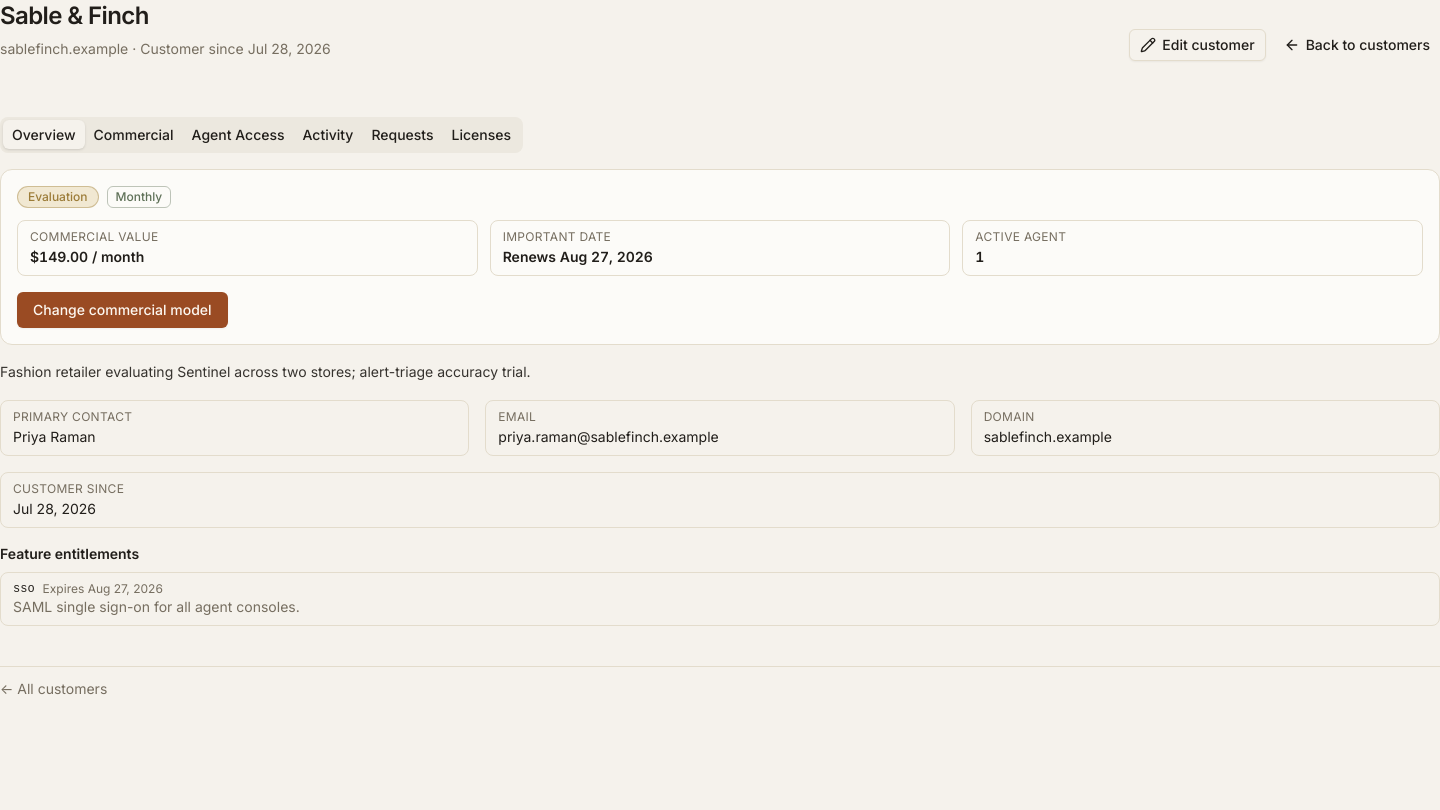
Test: CustomerProfilePage › uses singular grammar for one active grant in the termination confirmation
What coordinates should you click on to do the following:
click the tab with test id "tab-commercial"
I would click on:
 (134, 135)
Its box is [84,120,182,149].
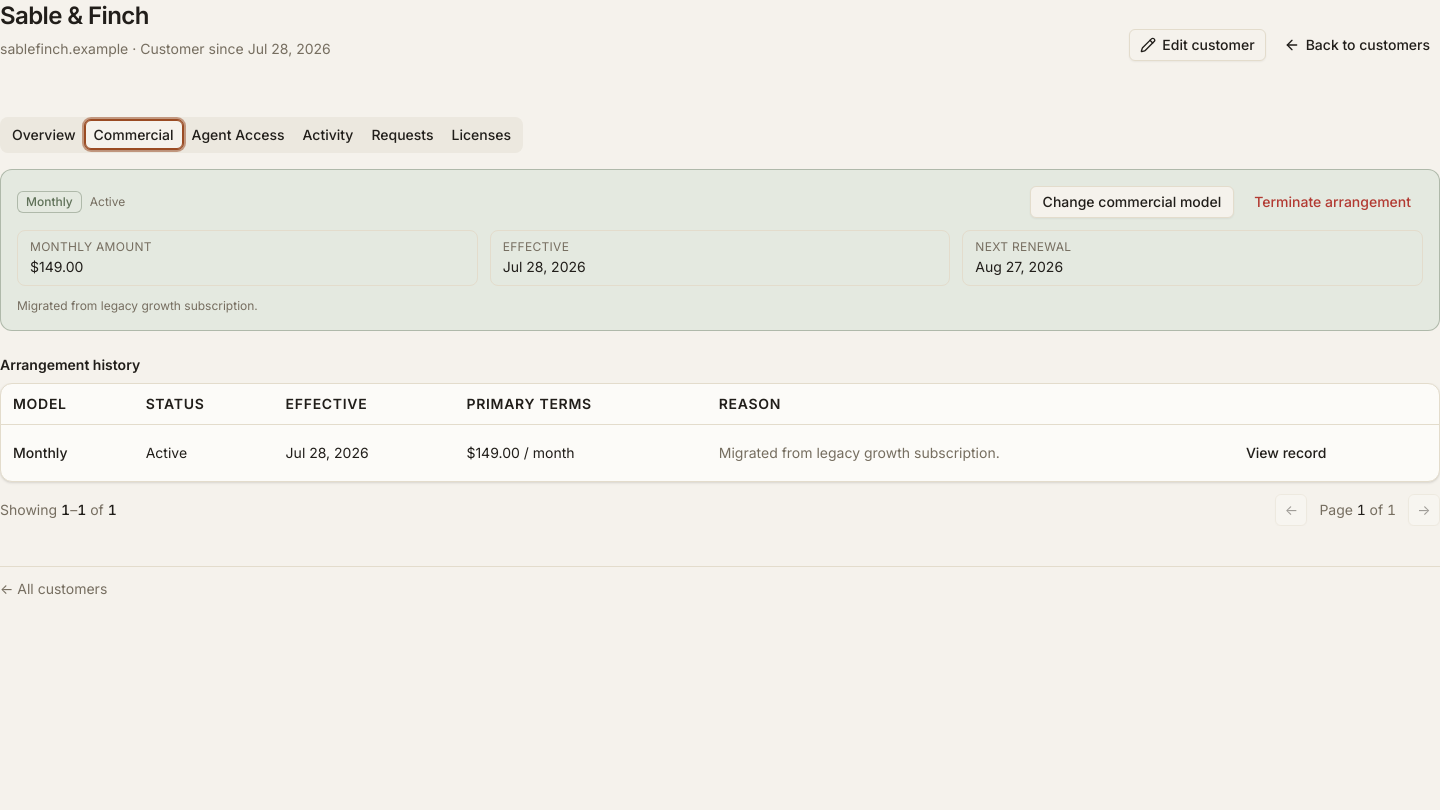
What coordinates should you click on to do the following:
click the button with test id "terminate-arrangement"
I would click on:
 (1333, 202)
Its box is [1242,186,1423,218].
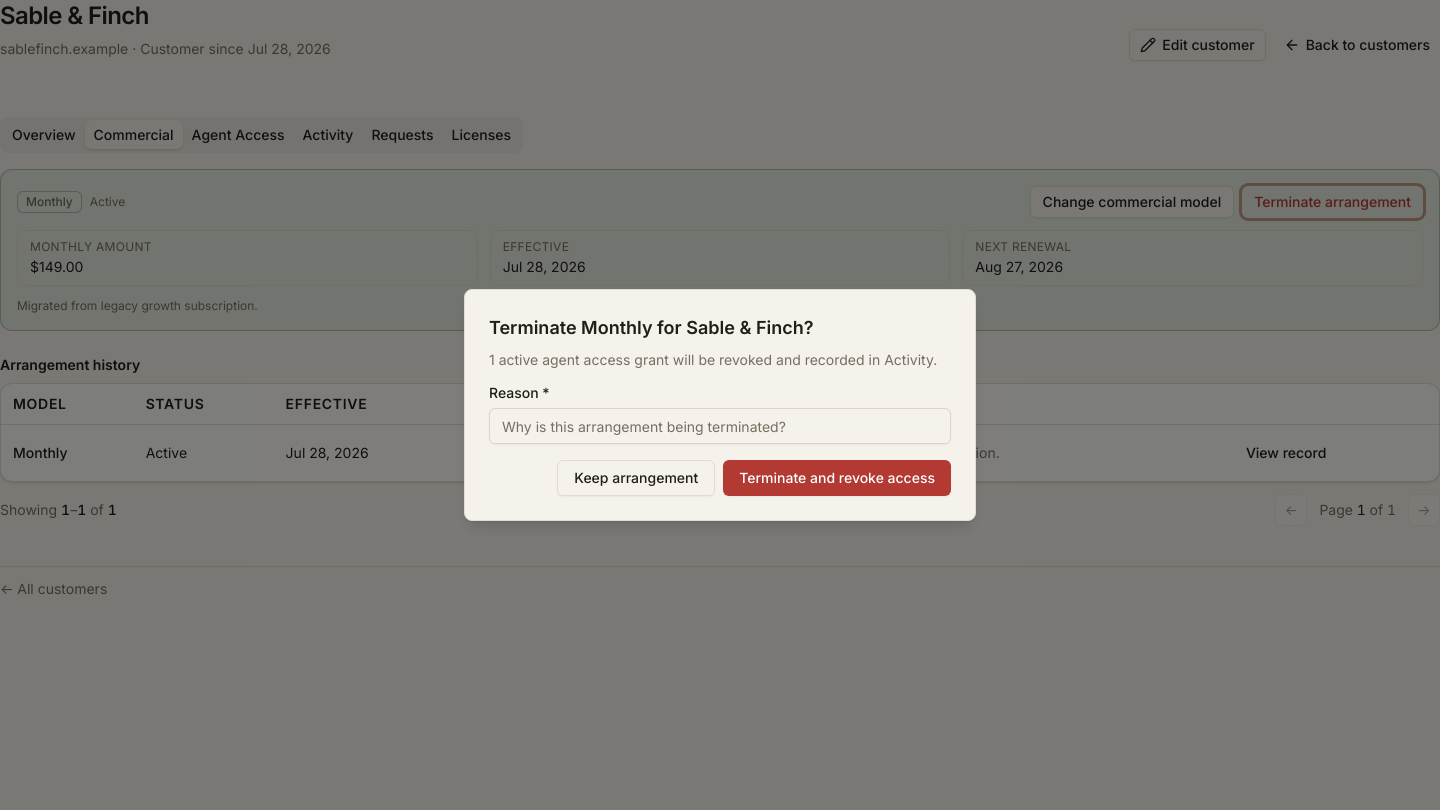
Now the text "1 active agent access grant will be revoked and recorded in Activity." is shown, box [489,350,951,370]
